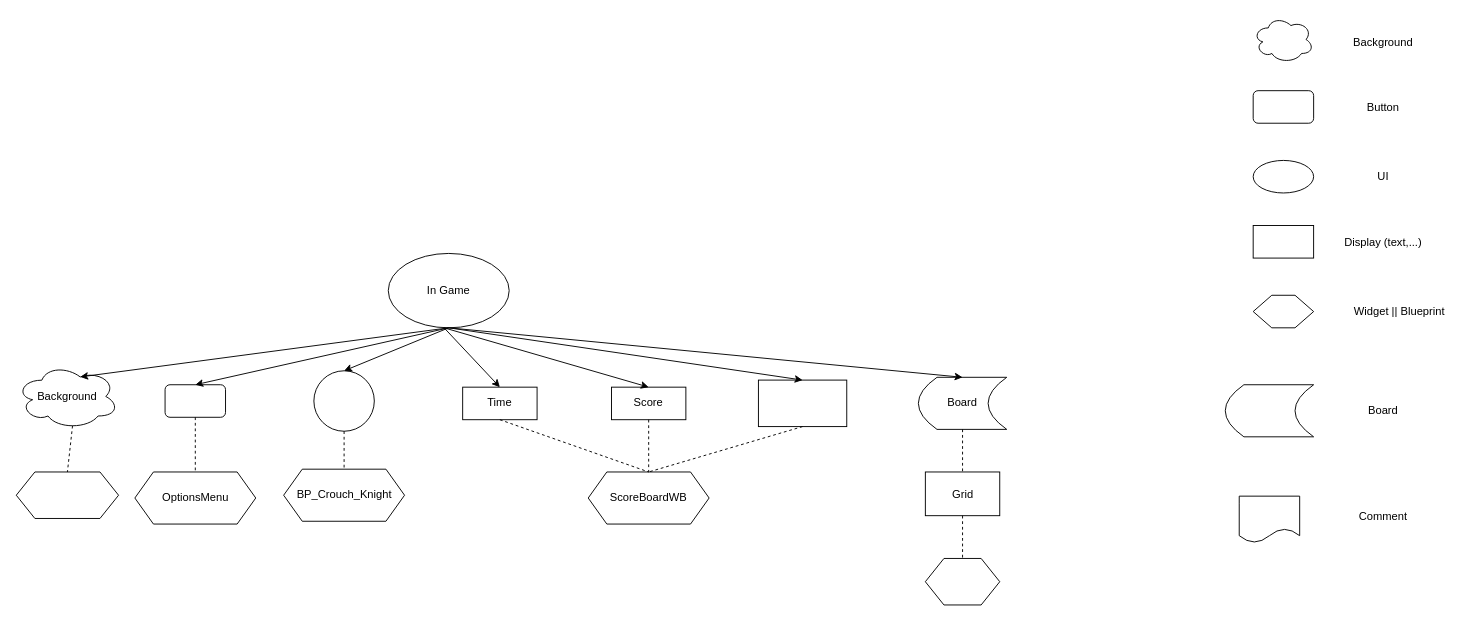
Image size: 1483x621. Some labels were removed from this diagram. The shapes that lost their labels are listed below. From the top down, each one's centre as x and y in pixels, then its label:
At (195,400): "Setting".
At (343,400): "Character".
At (802,403): "Leaderboard".
At (67,494): "GameScreen".
At (962,581): "Grid_BP".
